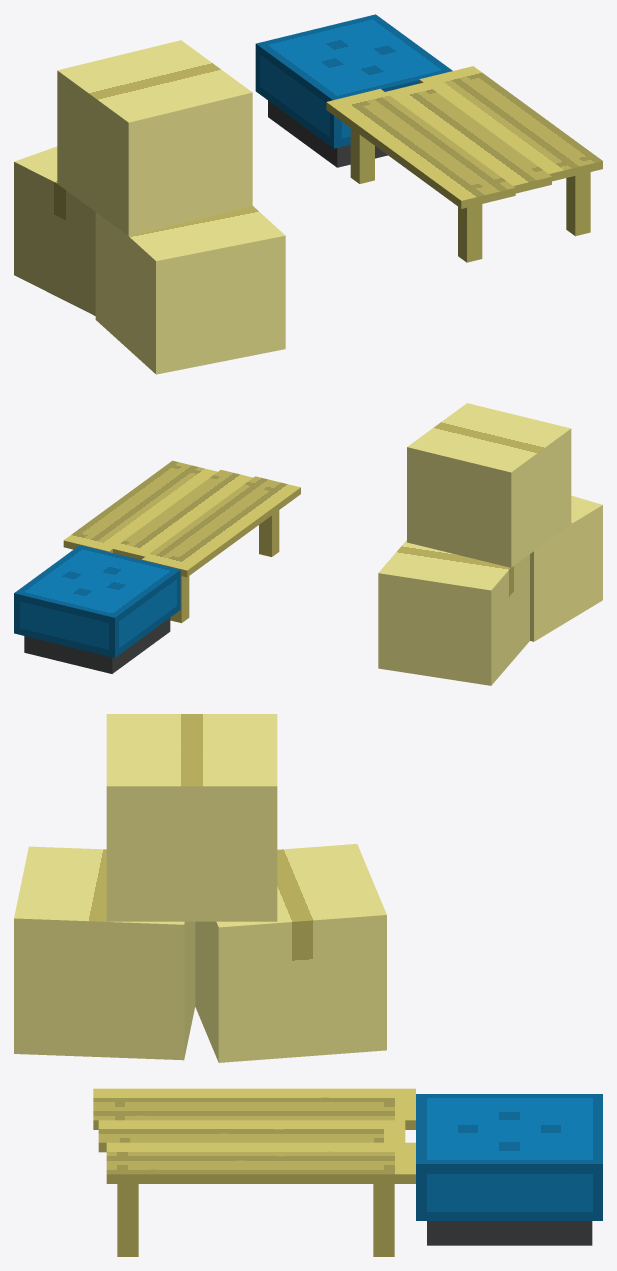
File: Merchant.gltf
3 renders of one model, top to bottom at view 1: azimuth 30°, elevation 25°; view 2: azimuth 150°, elevation 25°; view 3: azimuth 270°, elevation 25°, orthographic. The views are drawn at different scales.
Visible parts, largest first — view 1: mesh (×2); view 2: mesh (×2); view 3: mesh (×2).
Part boxes in pixels (x1,y1,x2,y2): mesh (×2): [14, 14, 602, 374]; mesh (×2): [14, 403, 602, 685]; mesh (×2): [14, 714, 602, 1256].
Size of the model in its own units: 3.91 by 1.75 by 3.45.
Materials: 3 (3 with a texture image).
